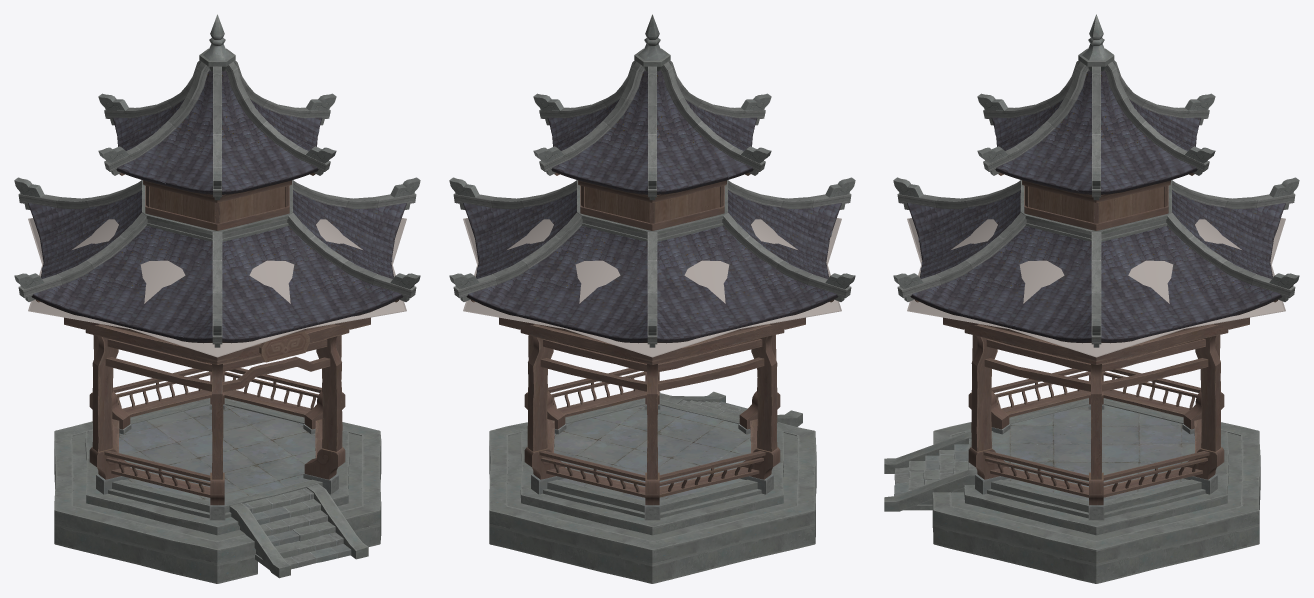
File: Homeworld_Exterior_Cyg_Build_YlbTingzi_01_Lod0.fbx
The picture shows the model from 3 angles, left to right: view 1: azimuth 30°, elevation 25°; view 2: azimuth 150°, elevation 25°; view 3: azimuth 270°, elevation 25°; orthographic projection.
Visible parts, largest first — view 1: Area_Cyg_Build_QYZ_Tingzi_01_Lod0, Area_Cyg_Build_QYZ_Tingzi_01_Ocl; view 2: Area_Cyg_Build_QYZ_Tingzi_01_Lod0, Area_Cyg_Build_QYZ_Tingzi_01_Ocl; view 3: Area_Cyg_Build_QYZ_Tingzi_01_Lod0, Area_Cyg_Build_QYZ_Tingzi_01_Ocl.
Boxes of the visible parts, x1,y1,x2,y2 form: Area_Cyg_Build_QYZ_Tingzi_01_Lod0: (14, 14, 420, 583); Area_Cyg_Build_QYZ_Tingzi_01_Ocl: (28, 218, 406, 357); Area_Cyg_Build_QYZ_Tingzi_01_Lod0: (449, 14, 855, 583); Area_Cyg_Build_QYZ_Tingzi_01_Ocl: (463, 218, 841, 357); Area_Cyg_Build_QYZ_Tingzi_01_Lod0: (884, 14, 1299, 583); Area_Cyg_Build_QYZ_Tingzi_01_Ocl: (907, 218, 1285, 357).
Size of what is drawn, in the model's own units: 16.46 by 19.18 by 14.72.
